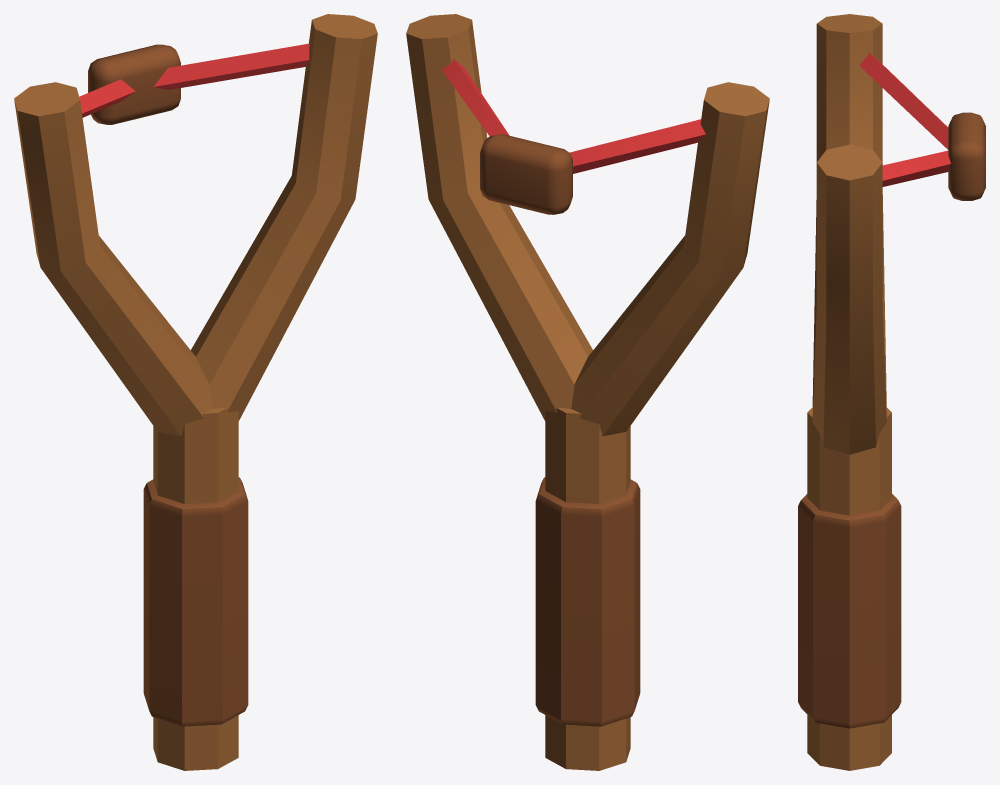
Rendered from Slingshot.fbx.
3 renders of one model, left to right at view 1: azimuth 30°, elevation 25°; view 2: azimuth 150°, elevation 25°; view 3: azimuth 270°, elevation 25°, orthographic. The views are drawn at different scales.
Parts seen in each view (by area): view 1: Slingshot; view 2: Slingshot; view 3: Slingshot.
Boxes of the visible parts, left/top/right/bottom form: Slingshot: left=14, top=14, right=377, bottom=770; Slingshot: left=406, top=14, right=769, bottom=770; Slingshot: left=798, top=14, right=985, bottom=770.
Bounding box in the file's own units: 0.8386 × 1.56 × 0.4.
Materials: 1 (1 with a texture image).
